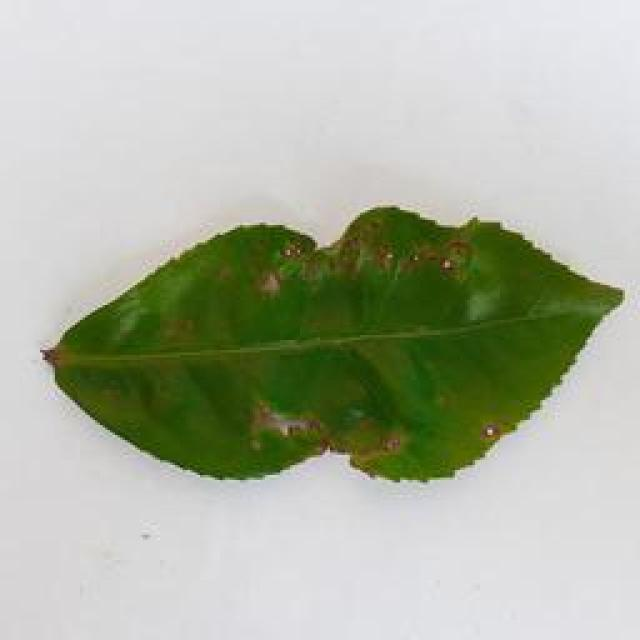Helopeltis: (37, 199, 639, 488)
